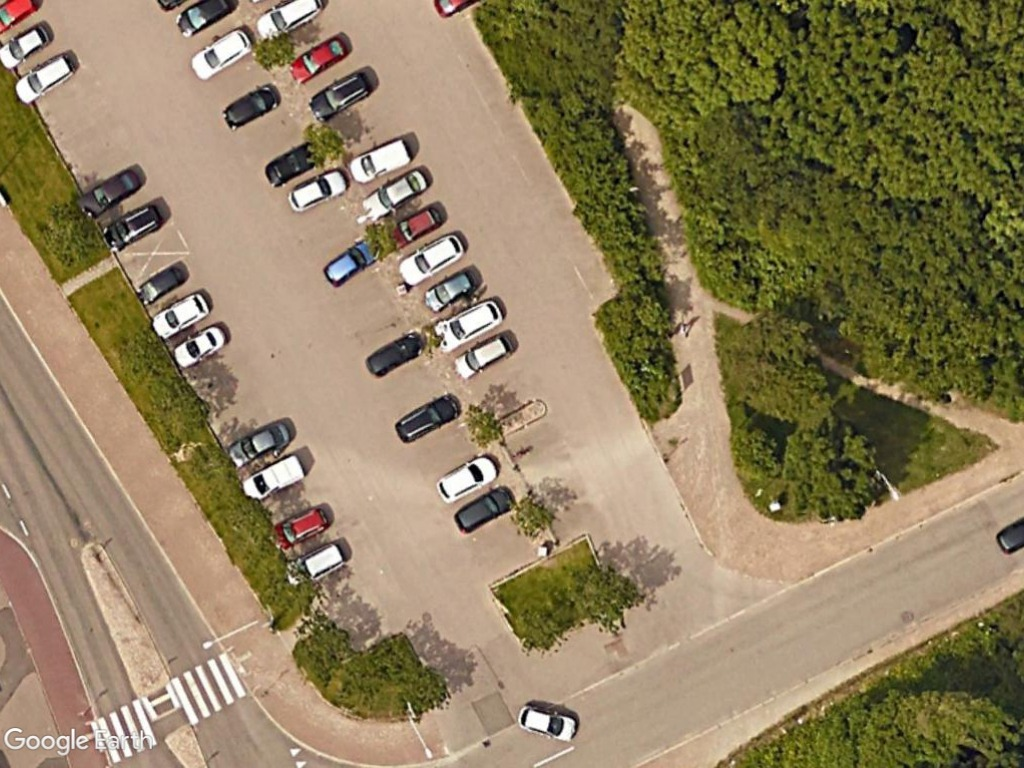car: (394, 227, 467, 291), (433, 296, 508, 352), (362, 163, 430, 223), (391, 390, 462, 446), (188, 24, 253, 84), (80, 163, 146, 222), (306, 69, 374, 124), (286, 29, 350, 87), (150, 285, 214, 343), (450, 482, 516, 538), (433, 451, 499, 506), (450, 330, 517, 384), (227, 416, 294, 470), (14, 49, 77, 106), (221, 80, 285, 134), (99, 200, 163, 254), (385, 201, 449, 253), (362, 326, 427, 377), (269, 503, 333, 554), (283, 168, 351, 215), (422, 263, 479, 318), (514, 701, 582, 746), (319, 236, 380, 286), (171, 321, 229, 370), (0, 21, 54, 73), (131, 261, 189, 306)
van: (348, 132, 417, 187), (242, 450, 309, 505)
